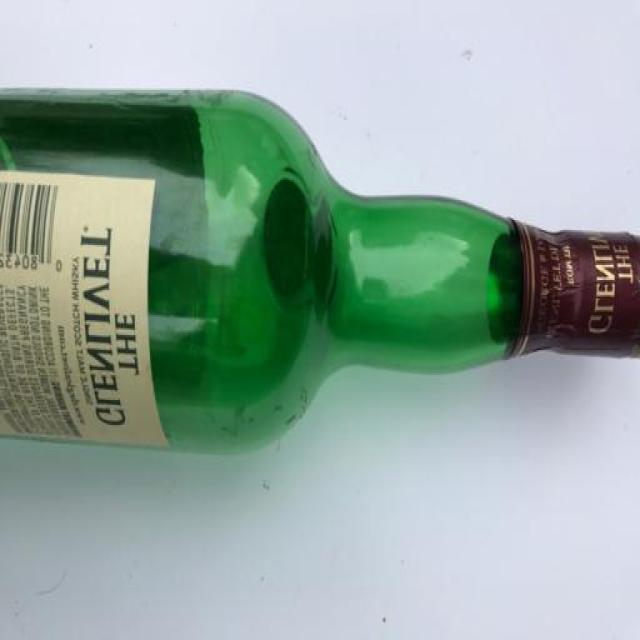glass: (0, 87, 640, 458)
